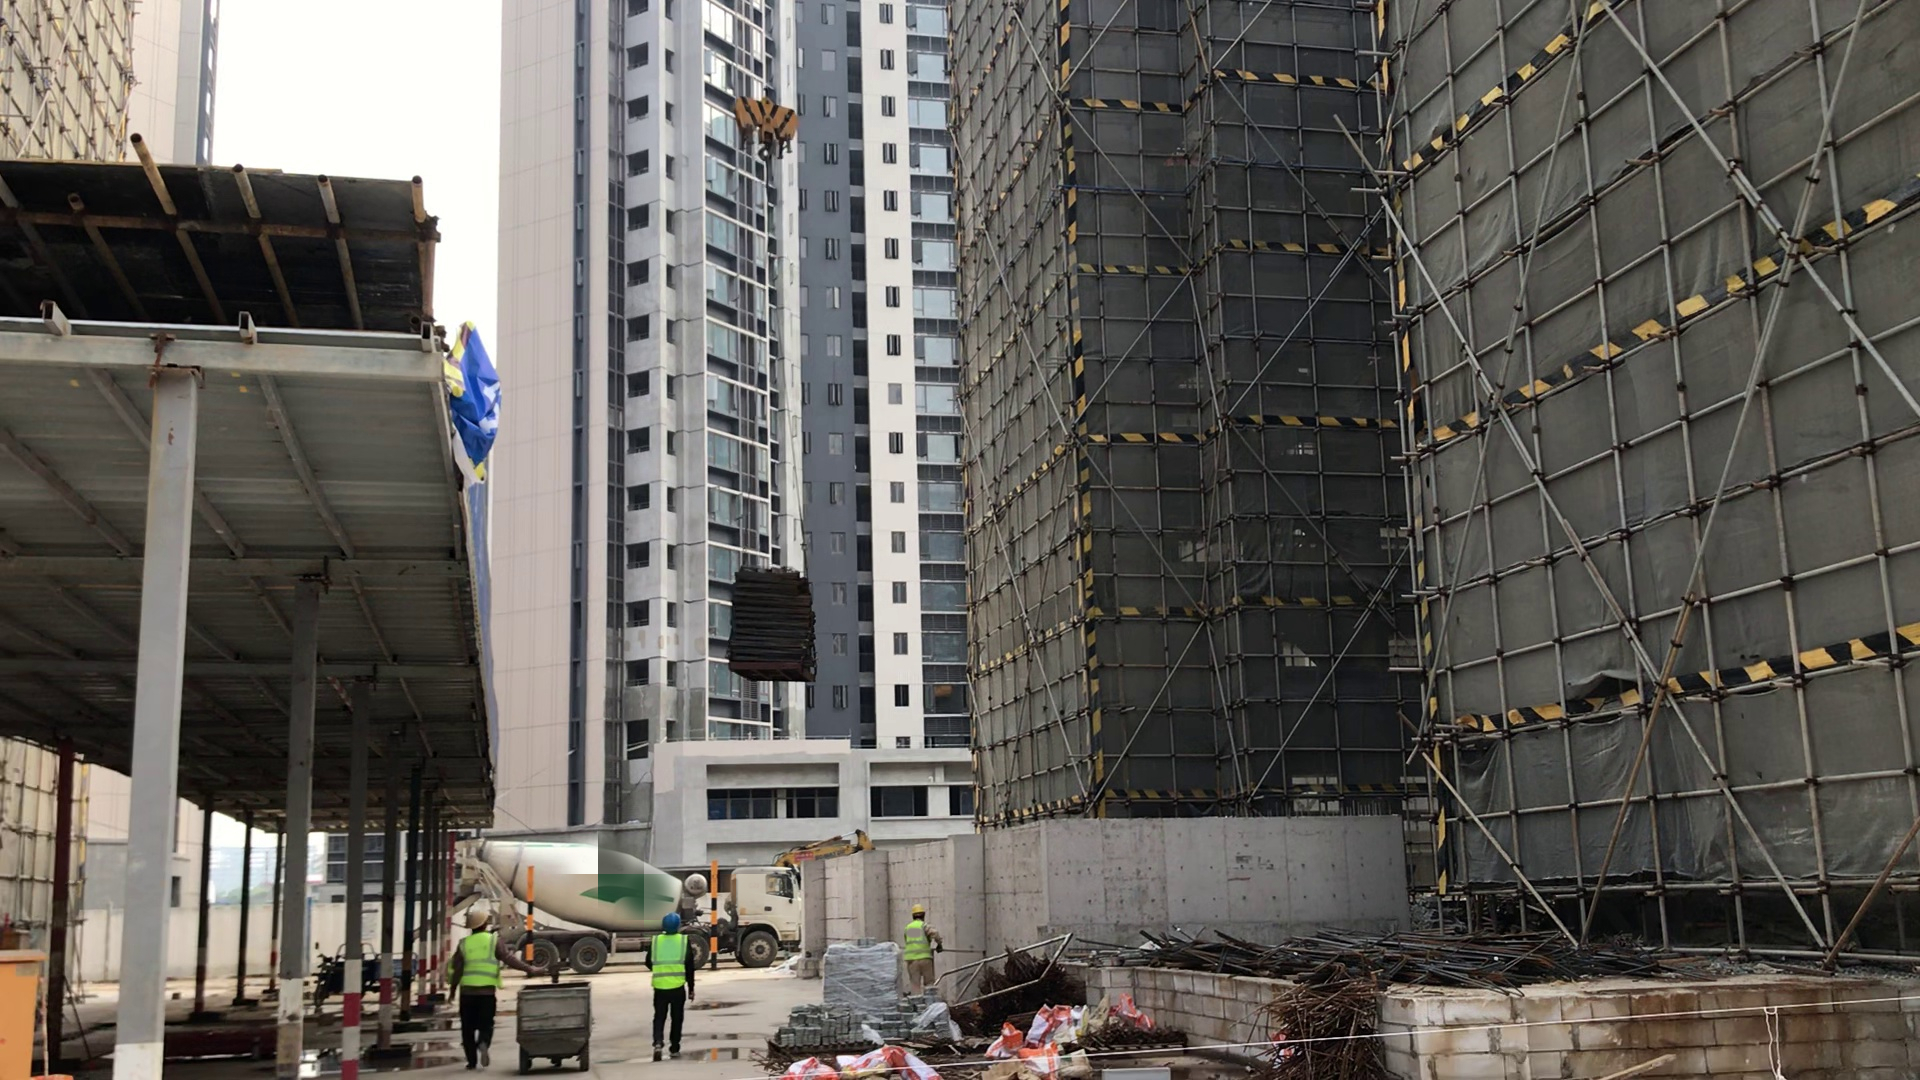brick: (765, 992, 942, 1057)
helmet: (457, 904, 496, 932), (904, 897, 931, 922), (657, 913, 682, 937)
hook: (721, 86, 807, 166)
person: (447, 900, 511, 1065), (646, 913, 698, 1058), (900, 902, 950, 992)
vest: (460, 930, 510, 999), (651, 936, 691, 993), (905, 922, 938, 971)
